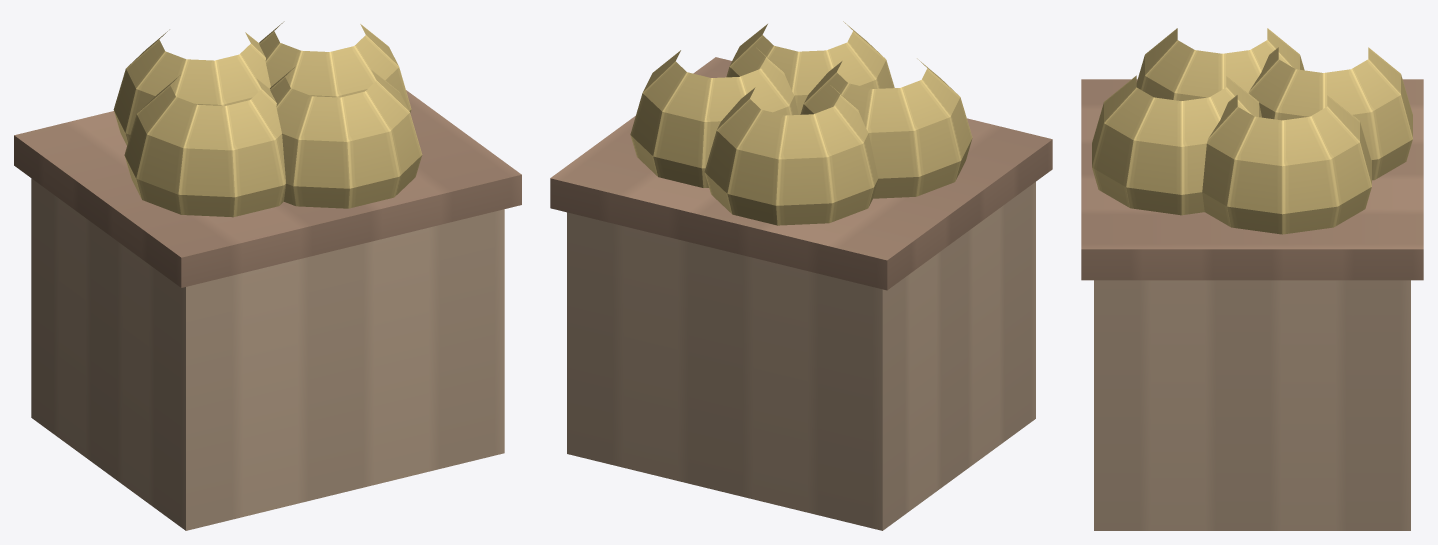
The model's file is crate_wood.glb.
3 views of the same model, side by side, from view 1: azimuth 30°, elevation 25°; view 2: azimuth 150°, elevation 25°; view 3: azimuth 270°, elevation 25° (orthographic). The views are drawn at different scales.
Visible parts, largest first — view 1: crate_wood; view 2: crate_wood; view 3: crate_wood.
Boxes of the visible parts, x1,y1,x2,y2 form: crate_wood: (14,21,521,530); crate_wood: (550,21,1052,530); crate_wood: (1081,28,1423,530).
Size of the model in its own units: 0.94 by 1.02 by 0.8.
1 material, 1 textured.
